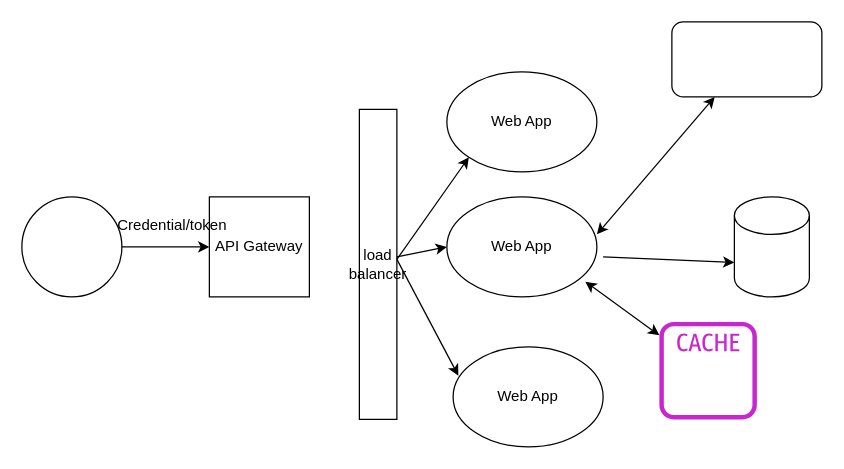
This 844x469 diagram has some shape labels left out. Here are the shapes that lost their labels. From the top down, the centre of each, then its label:
At pixel 746 59: "spring security/authorization".
At pixel 71 246: "UI/Client".
At pixel 771 246: "mysql".
